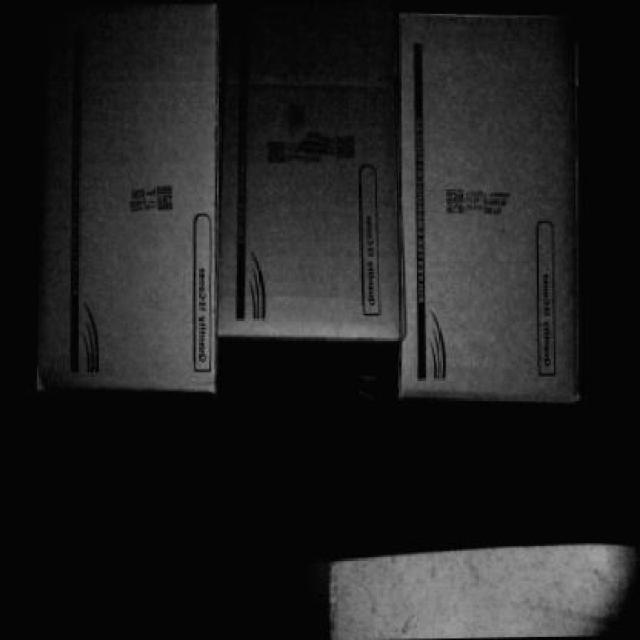cardboxes: (32, 1, 217, 392), (393, 15, 579, 394), (211, 9, 398, 342)
